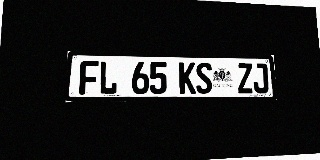5: (150, 62, 167, 94)
6: (132, 61, 149, 94)
F: (79, 61, 99, 95)
J: (252, 63, 269, 93)
K: (179, 62, 196, 94)
L: (99, 61, 118, 95)
S: (196, 62, 213, 94)
Z: (237, 63, 253, 94)
